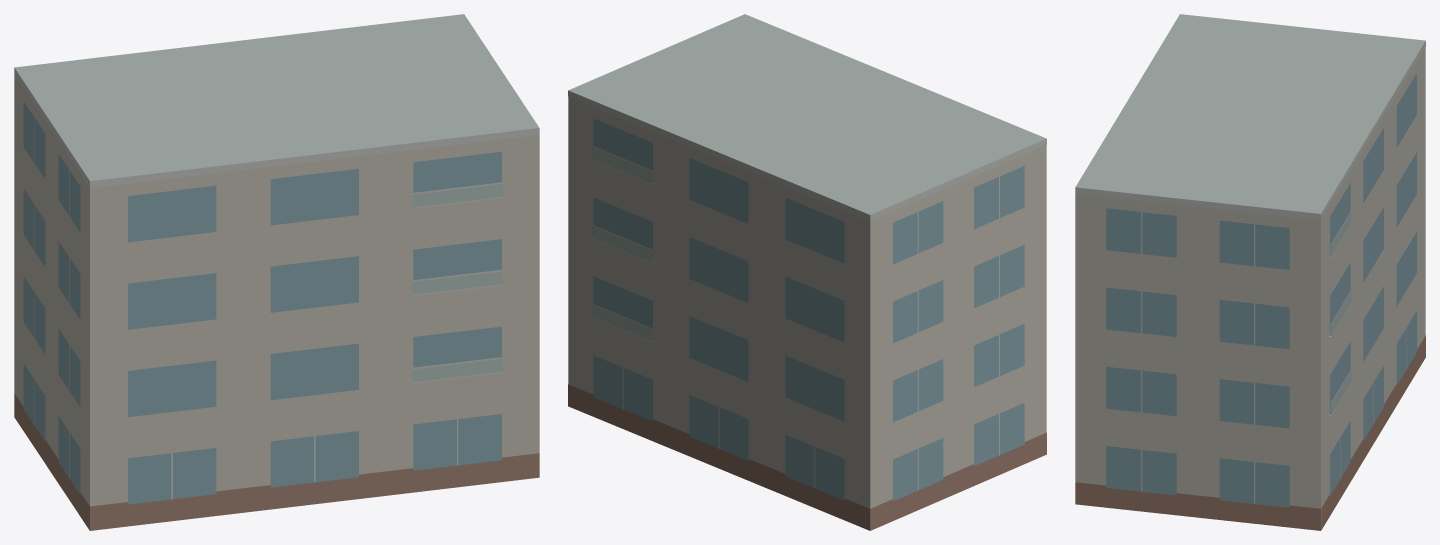
Rendered from residential-d1c322a3-3079-4dbd-952e-d24ddb6fb140.glb.
3 renders of one model, left to right at view 1: azimuth 30°, elevation 25°; view 2: azimuth 150°, elevation 25°; view 3: azimuth 270°, elevation 25°, orthographic. The views are drawn at different scales.
Parts seen in each view (by area): view 1: residential-d1c322a3-3079-4dbd-952e-d24ddb6fb140.tmp; view 2: residential-d1c322a3-3079-4dbd-952e-d24ddb6fb140.tmp; view 3: residential-d1c322a3-3079-4dbd-952e-d24ddb6fb140.tmp.
Boxes of the visible parts, x1,y1,x2,y2 form: residential-d1c322a3-3079-4dbd-952e-d24ddb6fb140.tmp: (14,14,539,530); residential-d1c322a3-3079-4dbd-952e-d24ddb6fb140.tmp: (568,14,1046,530); residential-d1c322a3-3079-4dbd-952e-d24ddb6fb140.tmp: (1075,14,1425,530).
Size of the model in its own units: 16.51 by 12.2 by 12.23.
